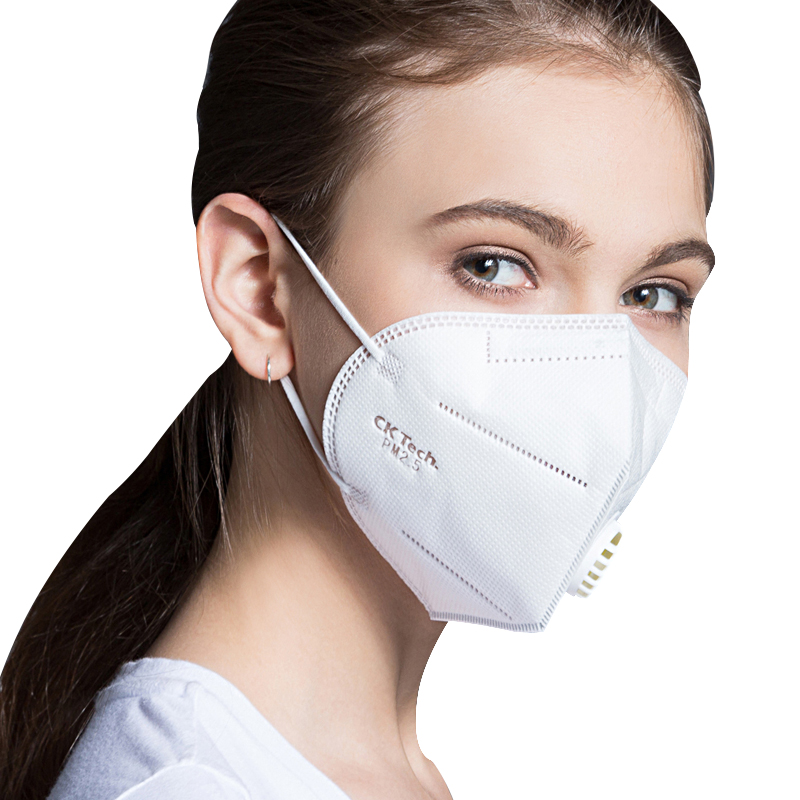face_mask: (320, 59, 715, 634)
